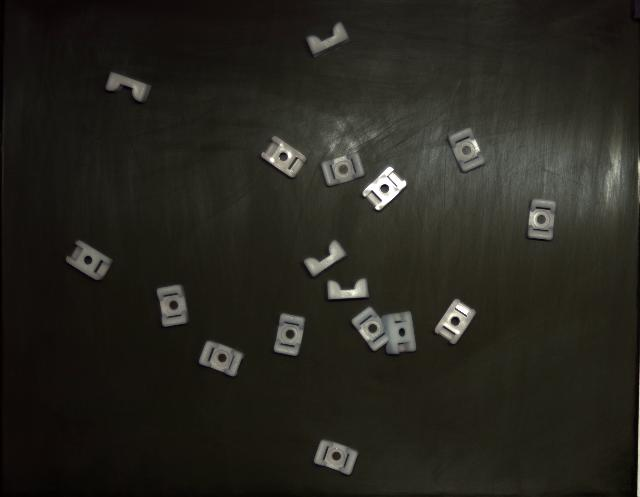first_side: (199, 341, 244, 378), (449, 128, 485, 172), (314, 440, 358, 475), (321, 152, 365, 186), (156, 285, 189, 328), (274, 314, 305, 356), (528, 199, 556, 240)
second_side: (362, 168, 406, 211), (261, 136, 306, 178), (66, 240, 112, 281), (435, 300, 475, 345)
third_side: (304, 240, 346, 278), (306, 22, 350, 58), (106, 72, 151, 102), (328, 279, 369, 300)
